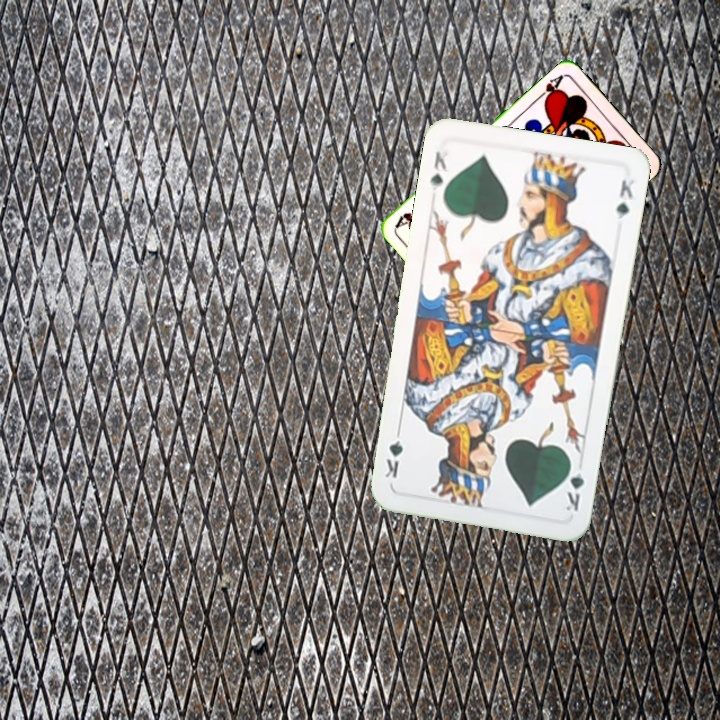GK: (561, 456, 587, 514), (426, 148, 451, 193)
HA: (533, 70, 566, 106)
